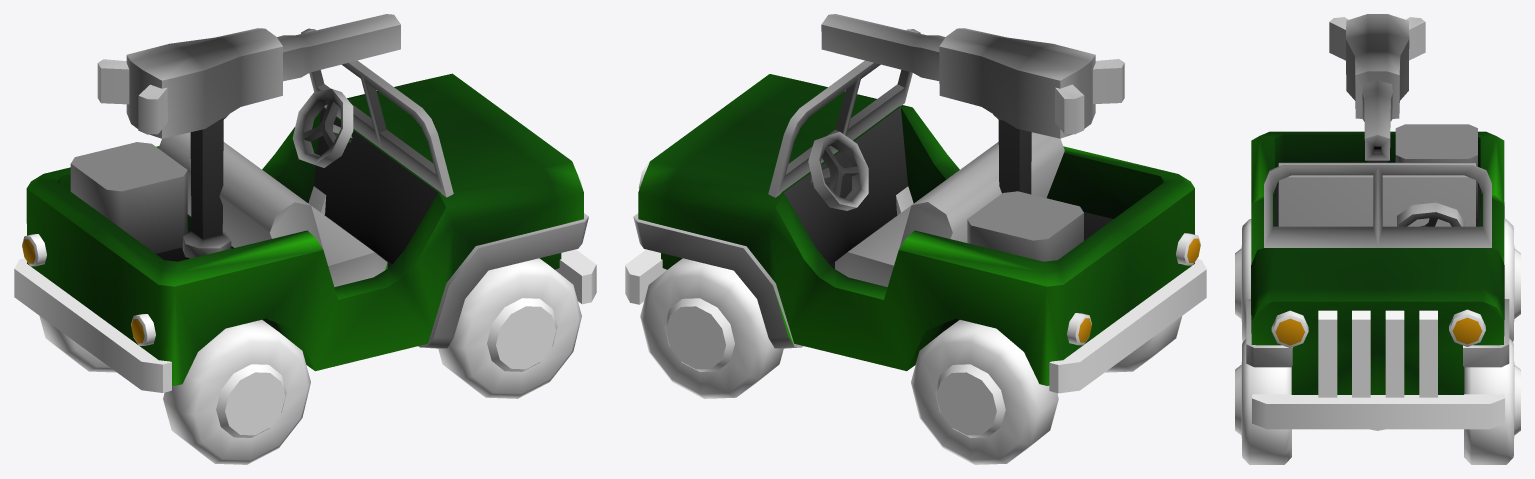
File: Hummer_w.fbx
3 views of the same model, side by side, from view 1: azimuth 30°, elevation 25°; view 2: azimuth 150°, elevation 25°; view 3: azimuth 270°, elevation 25° (orthographic). The views are drawn at different scales.
Visible parts, largest first — view 1: Offroad3_Green, OffroadAcc3, Wheel.002, Wheel.003, OffroadAcc3.001, Wheel.001; view 2: Offroad3_Green, OffroadAcc3, Wheel.001, Wheel, OffroadAcc3.001, Wheel.002; view 3: Offroad3_Green, OffroadAcc3, Wheel.003, Wheel, OffroadAcc3.001, Wheel.001, Wheel.002.
Boxes of the visible parts, x1,y1,x2,y2 form: Offroad3_Green: [14, 28, 596, 392]; OffroadAcc3: [97, 14, 400, 258]; Wheel.002: [163, 320, 310, 464]; Wheel.003: [438, 258, 581, 398]; OffroadAcc3.001: [70, 142, 187, 253]; Wheel.001: [39, 316, 116, 372]; Offroad3_Green: [625, 29, 1206, 393]; OffroadAcc3: [821, 14, 1124, 194]; Wheel.001: [911, 320, 1058, 464]; Wheel: [640, 258, 783, 398]; OffroadAcc3.001: [967, 191, 1083, 261]; Wheel.002: [1105, 316, 1182, 372]; Offroad3_Green: [1246, 131, 1509, 430]; OffroadAcc3: [1329, 14, 1425, 162]; Wheel.003: [1235, 339, 1291, 464]; Wheel: [1464, 338, 1520, 464]; OffroadAcc3.001: [1395, 124, 1477, 218]; Wheel.001: [1504, 219, 1520, 341]; Wheel.002: [1235, 219, 1251, 341].
Bounding box in the file's own units: 51.32 × 38.43 × 31.71.
